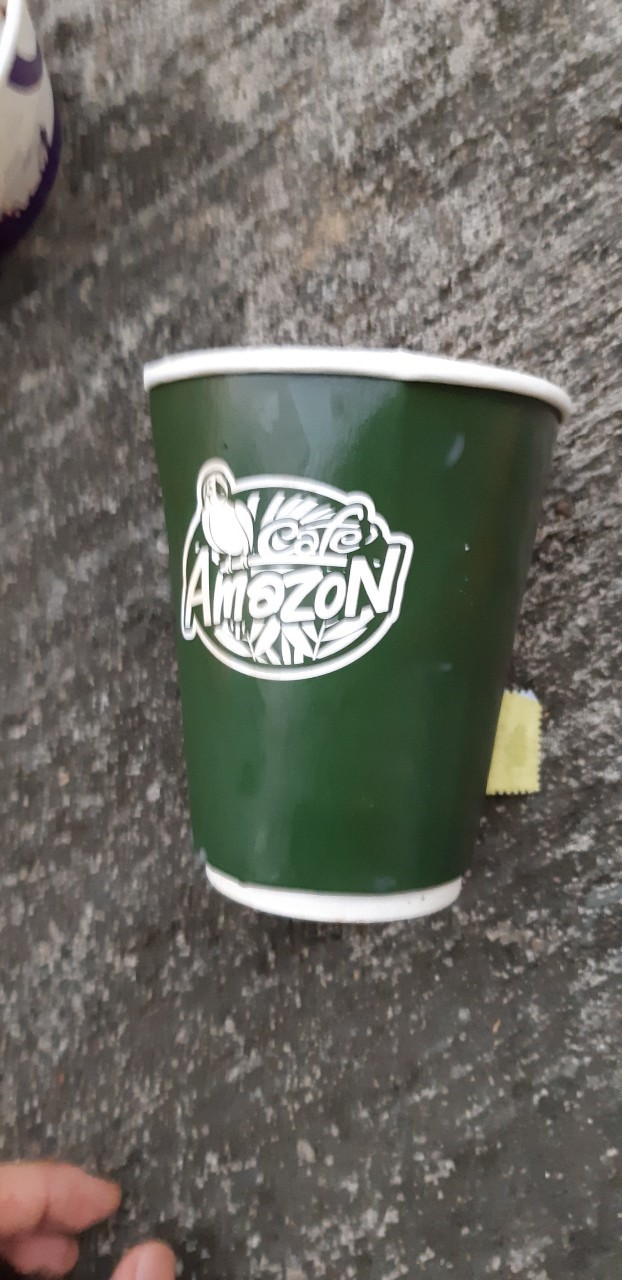PaperCup: (137, 343, 572, 925)
